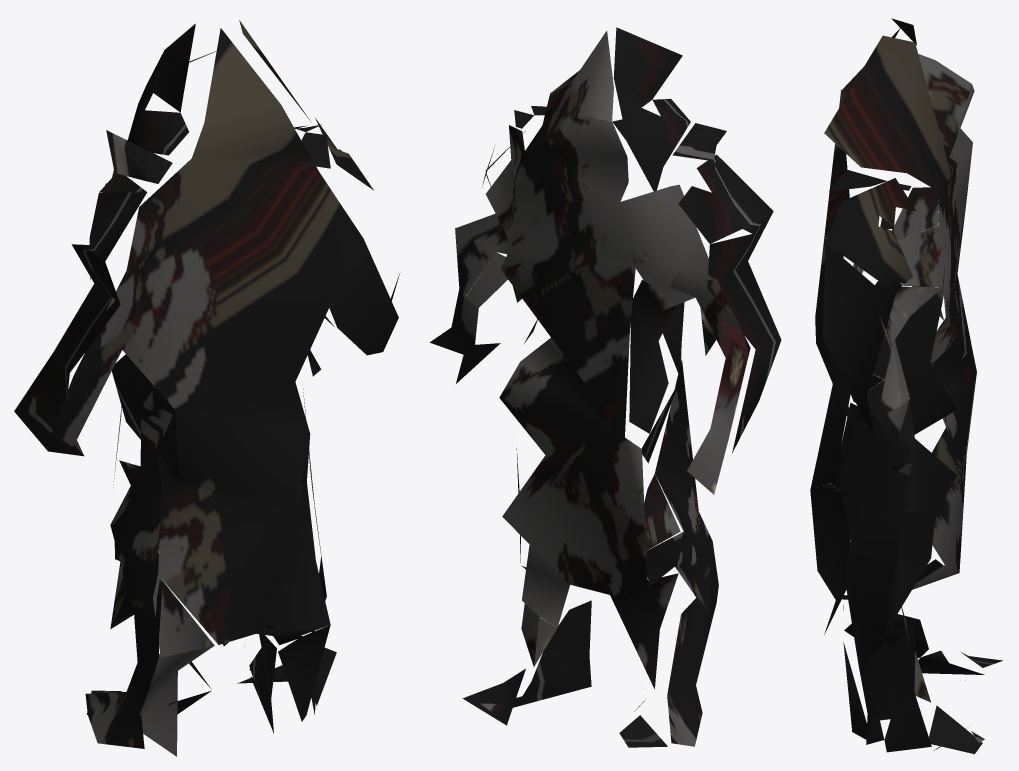
The picture shows the model from 3 angles, left to right: view 1: azimuth 30°, elevation 25°; view 2: azimuth 150°, elevation 25°; view 3: azimuth 270°, elevation 25°; orthographic projection.
Parts seen in each view (by area): view 1: body.002; view 2: body.002; view 3: body.002.
Boxes of the visible parts, left/top/right/bottom form: body.002: left=14, top=20, right=400, bottom=756; body.002: left=430, top=27, right=781, bottom=747; body.002: left=810, top=18, right=1002, bottom=754.
Bounding box in the file's own units: 1.03 × 1.99 × 0.5033.
Materials: 1 (1 with a texture image).
